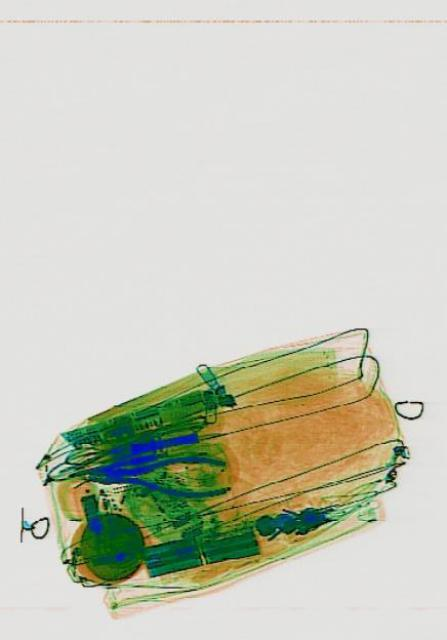Pliers: (92, 450, 227, 500)
